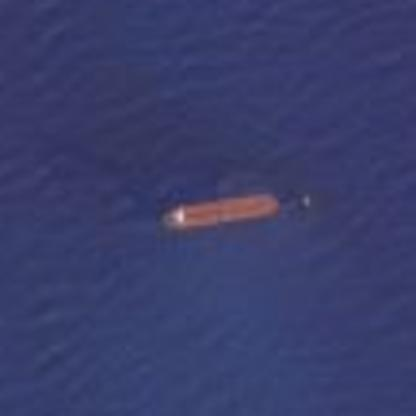ship: (149, 184, 287, 234)
